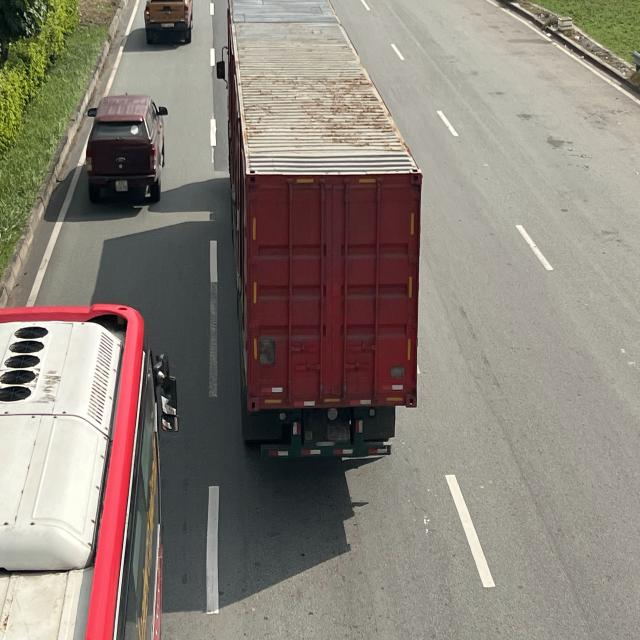car: (86, 88, 166, 208), (142, 0, 196, 43)
container: (215, 0, 424, 467)
